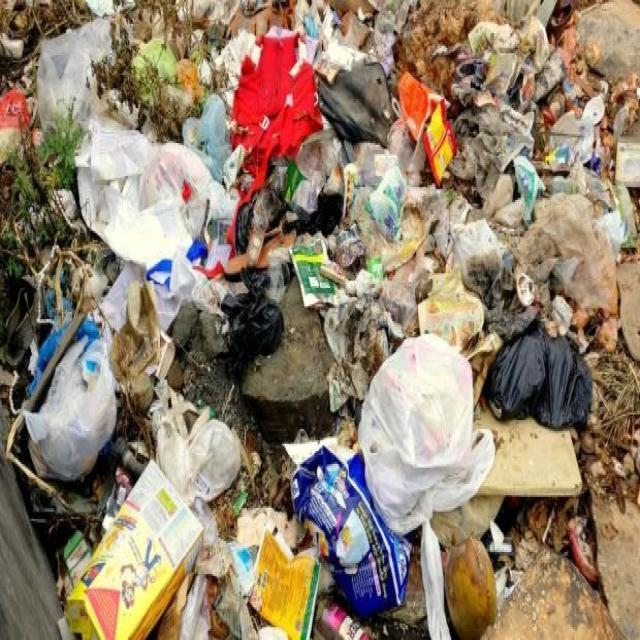Plastic_Bag: (359, 333, 495, 640), (76, 118, 238, 265), (24, 338, 116, 481), (515, 195, 616, 312), (150, 382, 241, 505), (485, 322, 591, 427), (38, 18, 111, 130), (221, 269, 284, 372), (318, 62, 394, 145), (182, 93, 231, 181), (190, 420, 241, 501), (368, 164, 406, 241)
Plastic_wraper: (292, 446, 410, 614), (250, 529, 320, 640), (290, 233, 335, 305), (424, 100, 458, 185), (514, 155, 545, 223)
